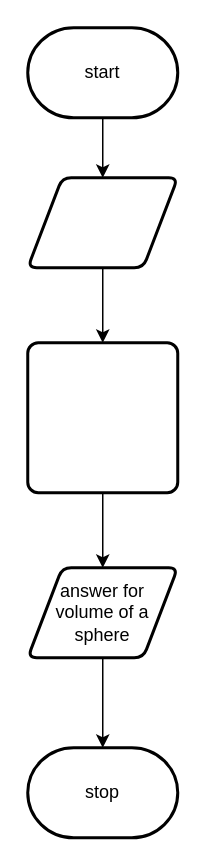
Some shapes in this 204 by 864 pixel diagram are drawn without their labels. Each missing label, with the centre of its shape:
"input radius" belongs at pixel 102 222.
"math for volume of a sphere" belongs at pixel 102 417.
